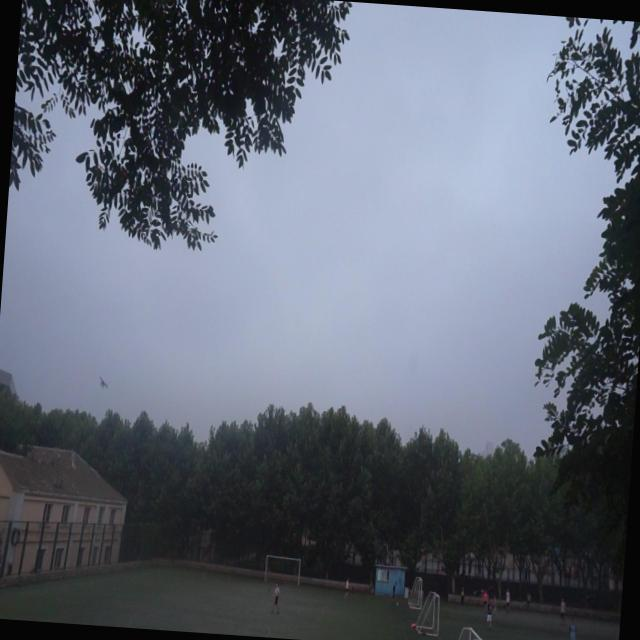drone: (98, 373, 110, 390)
